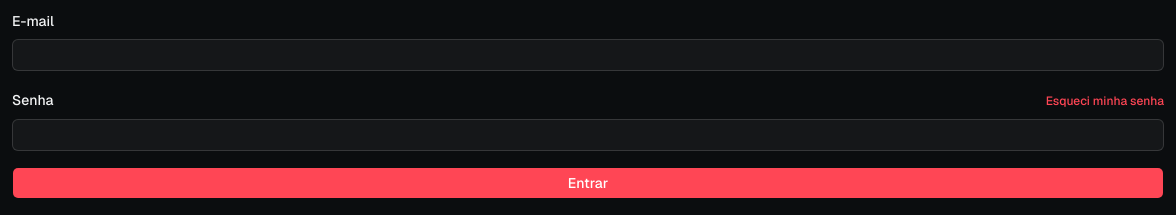
Test: SignInForm › desabilita o botão durante o envio
Type "joao@example.com" into the field labelled "E-mail".
click(588, 55); type("joao@example.com")  # box x1=12 y1=39 x2=1164 y2=71
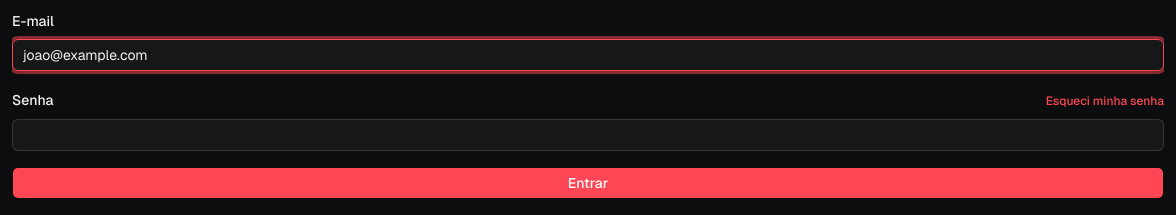
Type "senha1234" into the password field labelled "Senha".
click(588, 134); type("senha1234")  # box x1=12 y1=118 x2=1164 y2=150
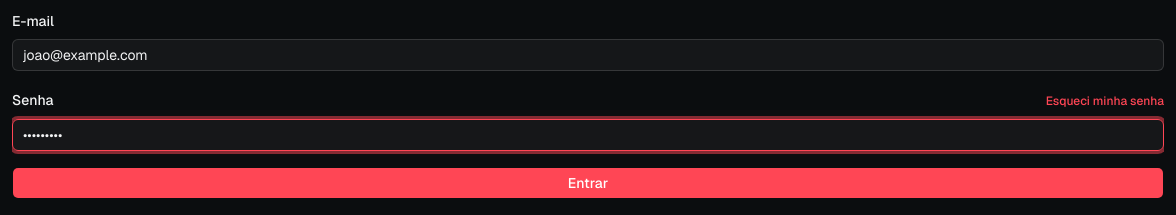
Click the button "Entrar".
click(588, 182)  # box x1=12 y1=166 x2=1164 y2=198
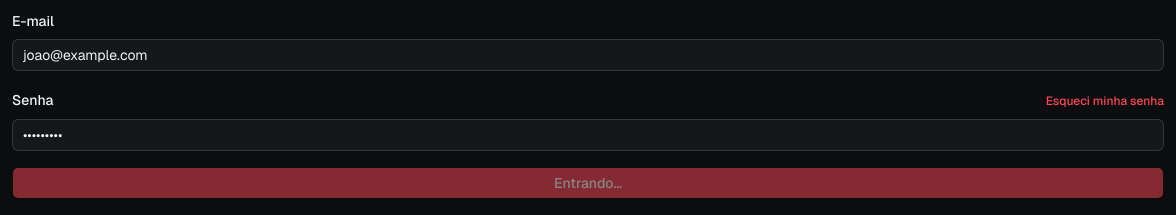
Now the button "Entrando…" is disabled, box x1=12 y1=166 x2=1164 y2=198
